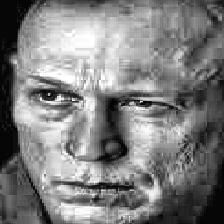angry: (22, 9, 224, 211)
